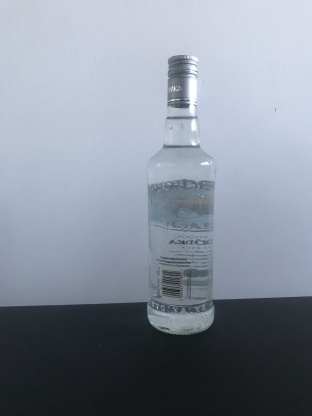nakretka: (166, 53, 199, 110)
